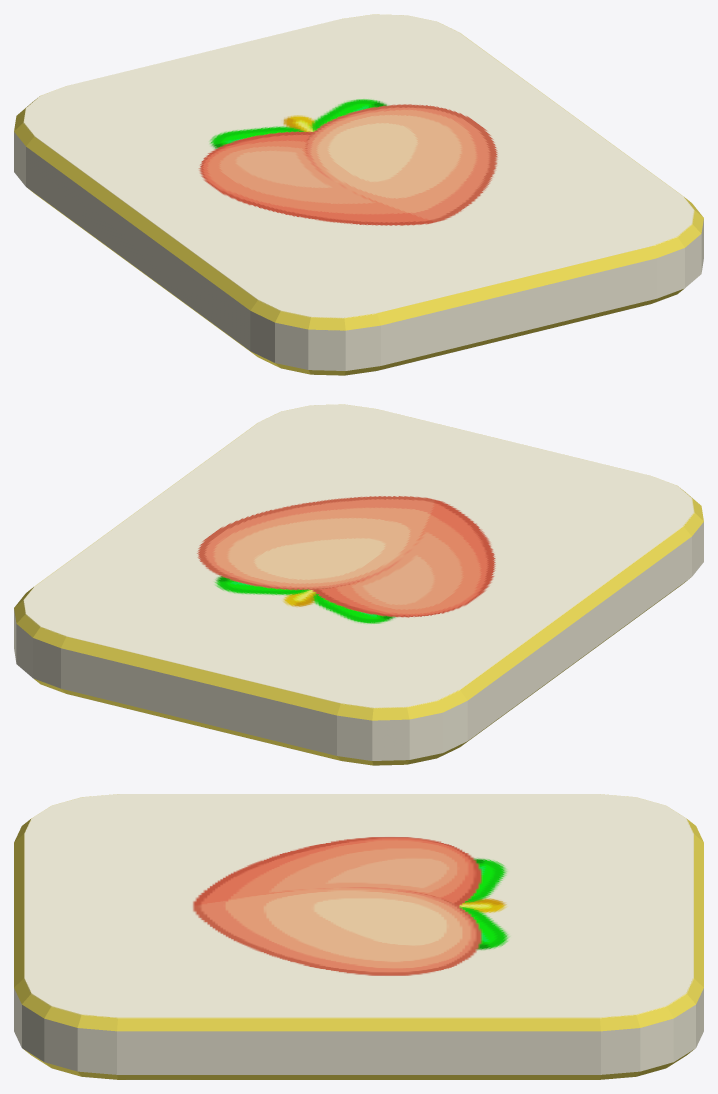
Rendered from memory_card_7.fbx.
The picture shows the model from 3 angles, top to bottom: view 1: azimuth 30°, elevation 25°; view 2: azimuth 150°, elevation 25°; view 3: azimuth 270°, elevation 25°; orthographic projection. The views are drawn at different scales.
Parts seen in each view (by area): view 1: Card7; view 2: Card7; view 3: Card7.
Part boxes in pixels (x1,y1,x2,y2): Card7: [14, 14, 703, 375]; Card7: [14, 404, 703, 765]; Card7: [14, 794, 703, 1079].
Size of the model in its own units: 40 by 5 by 50.22.
